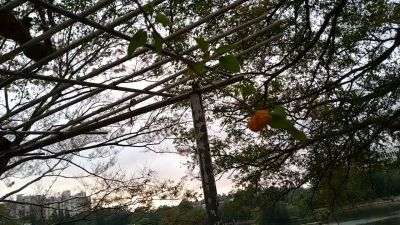eggs: (248, 108, 271, 133)
